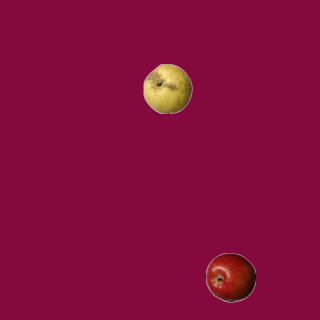Apple Braeburn: (205, 252, 255, 302)
Apple Golden 1: (142, 63, 192, 113)
